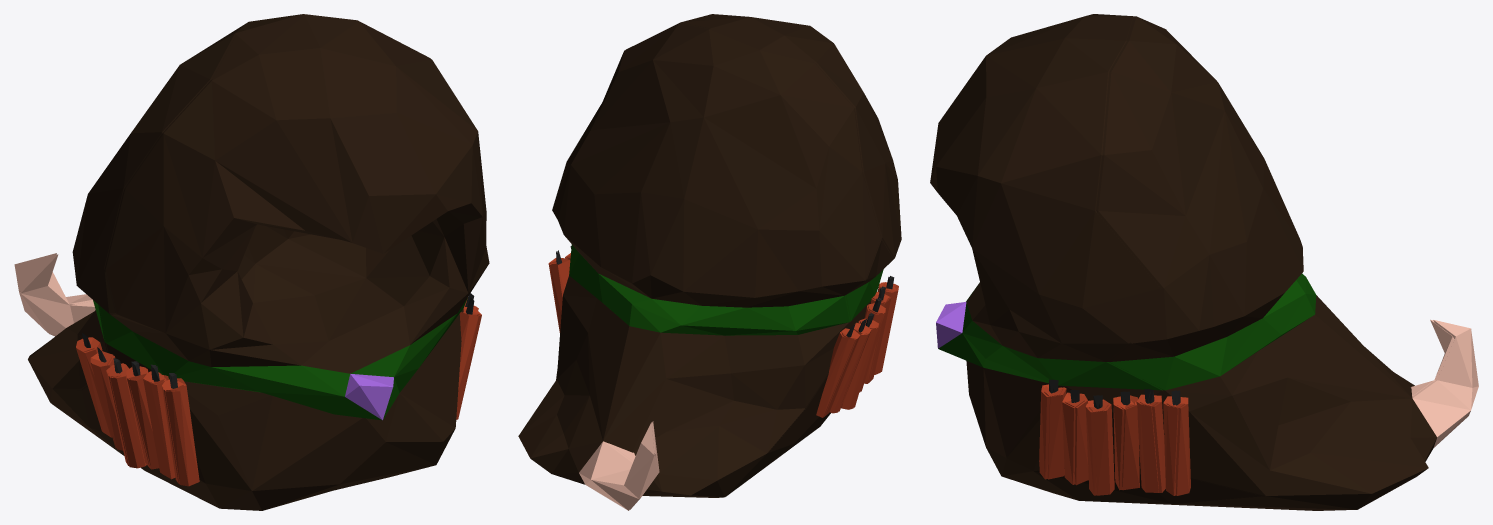
The model's file is Suicider_anim_lowPoly.fbx.
The picture shows the model from 3 angles, left to right: view 1: azimuth 30°, elevation 25°; view 2: azimuth 150°, elevation 25°; view 3: azimuth 270°, elevation 25°; orthographic projection. The views are drawn at different scales.
Visible parts, largest first — view 1: SuiciderMesh, Quad Sphere, Cylinder.001; view 2: Quad Sphere, SuiciderMesh, Cylinder.001; view 3: Quad Sphere, SuiciderMesh, Cylinder.001.
Part boxes in pixels (x1,y1,x2,y2): SuiciderMesh: [16, 15, 489, 510]; Quad Sphere: [14, 14, 430, 426]; Cylinder.001: [76, 293, 479, 483]; Quad Sphere: [518, 23, 893, 510]; SuiciderMesh: [550, 14, 901, 509]; Cylinder.001: [548, 246, 897, 417]; Quad Sphere: [1026, 14, 1478, 510]; SuiciderMesh: [930, 14, 1454, 510]; Cylinder.001: [1044, 379, 1190, 495].
Size of the model in its own units: 279 by 322 by 369.
